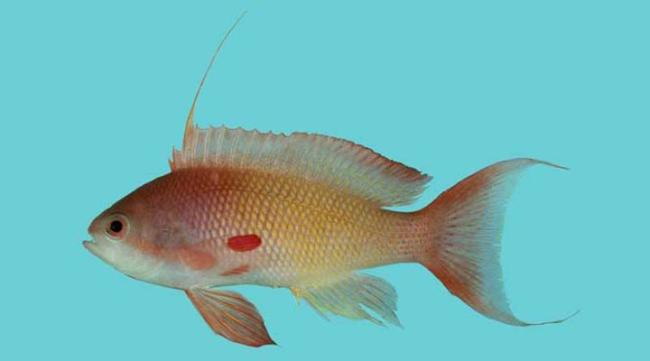fish: (82, 122, 572, 348)
